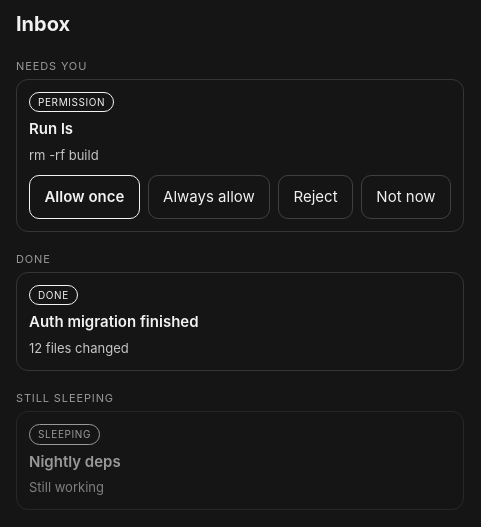
it: opening a card › asks the host for the thread the card is about
Click the button "Run ls" at (51, 129), box left=29, top=118, right=451, bottom=140
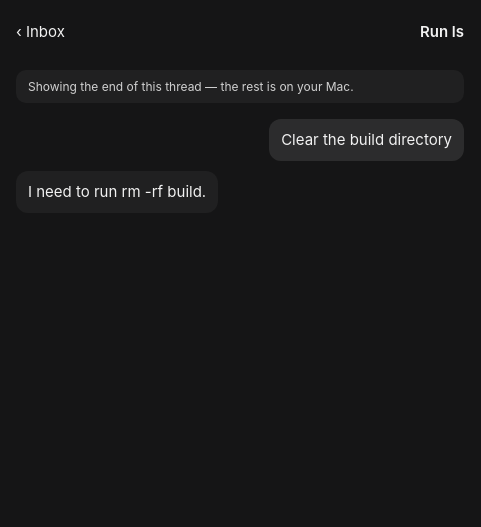
Check: the list item "I need to run rm -rf build." is shown, box left=16, top=171, right=218, bottom=213
Check: the list item "Clear the build directory" is shown, box left=269, top=119, right=464, bottom=161
Check: the text "Showing the end of this thread — the rest is on your Mac." is shown, box left=16, top=70, right=464, bottom=103
